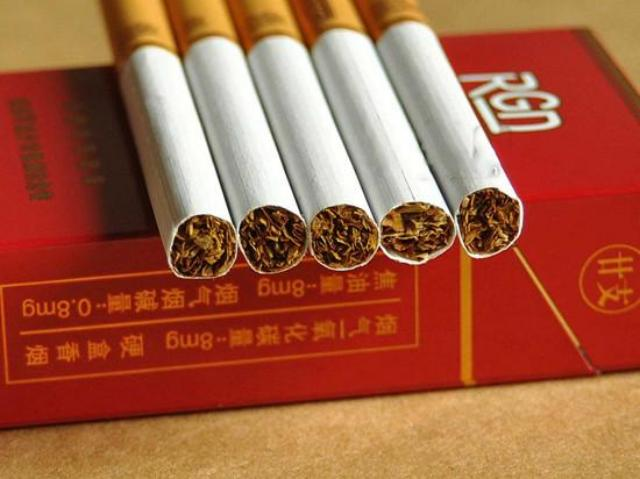Cigarette: (290, 0, 458, 266), (357, 0, 526, 260), (230, 0, 382, 272), (166, 0, 310, 276), (98, 0, 240, 278)
